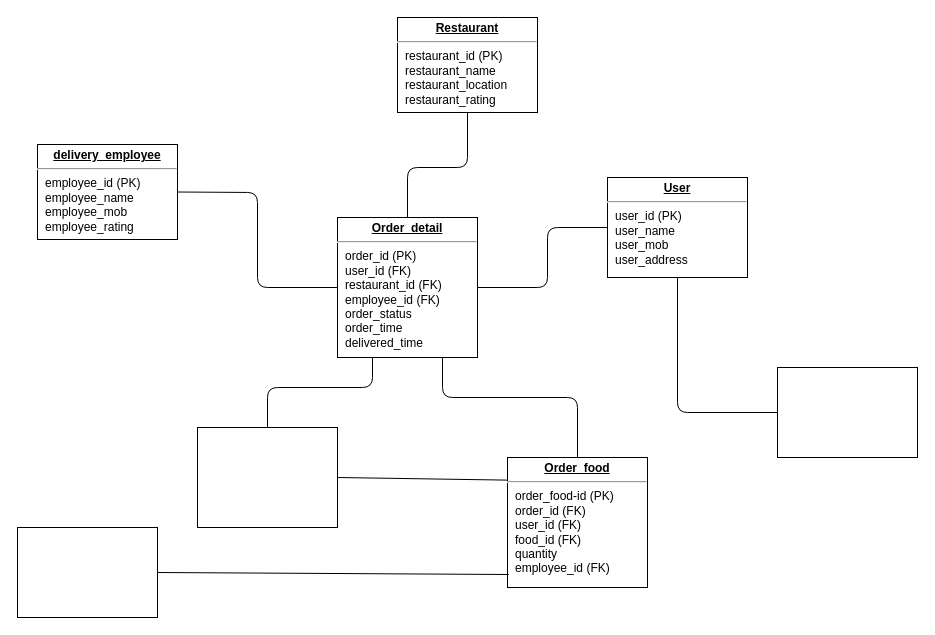
Some shapes in this 935 by 635 pixel diagram are drawn without their labels. Here are the shapes that lost their labels. From the top down, the box of each, then its label:
(776, 366, 918, 458): Blog user_id (FK) user_name (FK) user_blog
(196, 426, 338, 528): Payment_table transaction_id (PK) order_id (FK) payment_type payment_status
(16, 526, 158, 618): Foods food_id (PK) food_name food_price
